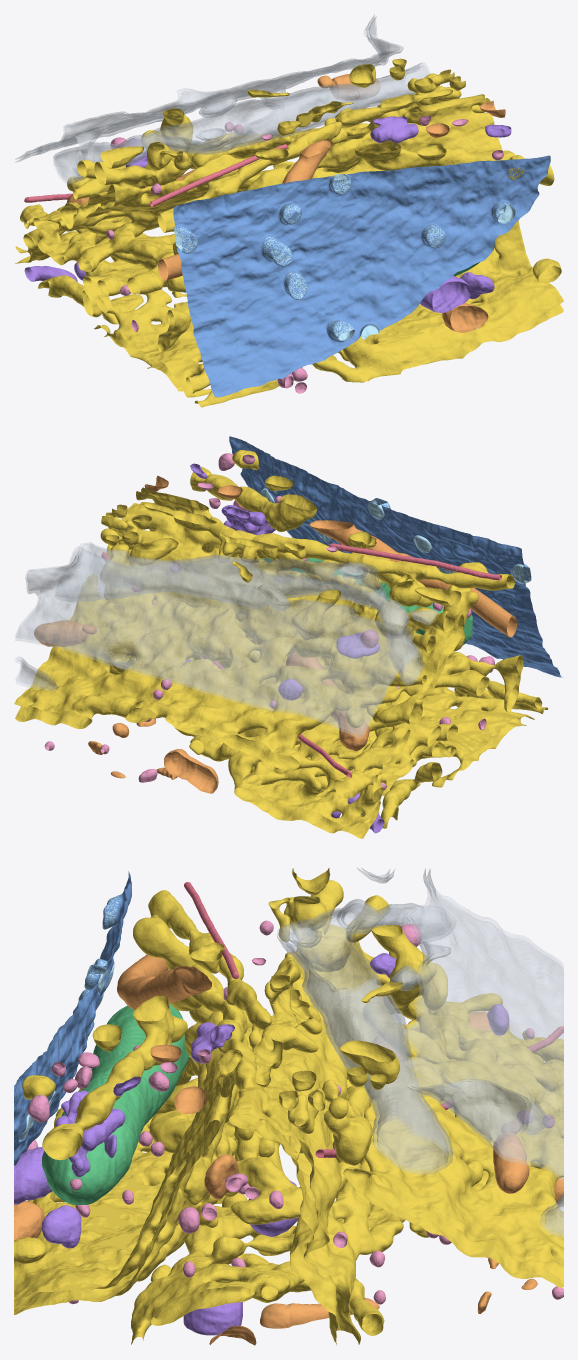
The model's file is macrophage_organelles.glb.
The picture shows the model from 3 angles, top to bottom: view 1: azimuth 30°, elevation 25°; view 2: azimuth 150°, elevation 25°; view 3: azimuth 270°, elevation 25°; orthographic projection. The views are drawn at different scales.
Visible parts, largest first — view 1: er, nucleus, plasma_membrane, lysosome, endosome, nuclear_pore, vesicle, microtubule; view 2: er, plasma_membrane, nucleus, lysosome, endosome, vesicle, microtubule, nuclear_pore, mitochondria; view 3: er, plasma_membrane, lysosome, endosome, mitochondria, vesicle, nucleus, microtubule, nuclear_pore.
Boxes of the visible parts, left/top/right/bottom form: er: left=15, top=58, right=563, bottom=407; nucleus: left=173, top=155, right=550, bottom=397; plasma_membrane: left=15, top=14, right=430, bottom=184; lysosome: left=67, top=74, right=505, bottom=332; endosome: left=24, top=116, right=511, bottom=312; nuclear_pore: left=174, top=174, right=515, bottom=340; vesicle: left=106, top=115, right=503, bottom=393; microtubule: left=24, top=144, right=287, bottom=206; er: left=14, top=450, right=548, bottom=838; plasma_membrane: left=15, top=542, right=437, bottom=737; nucleus: left=229, top=436, right=562, bottom=677; lysosome: left=34, top=475, right=517, bottom=793; endosome: left=186, top=463, right=384, bottom=833; vesicle: left=44, top=453, right=494, bottom=790; microtubule: left=102, top=543, right=501, bottom=777; nuclear_pore: left=260, top=488, right=531, bottom=583; mitochondria: left=263, top=558, right=472, bottom=644; er: left=14, top=868, right=563, bottom=1345; plasma_membrane: left=277, top=868, right=563, bottom=1237; lysosome: left=14, top=954, right=563, bottom=1345; endosome: left=14, top=953, right=508, bottom=1335; mitochondria: left=42, top=1003, right=189, bottom=1204; vesicle: left=27, top=920, right=563, bottom=1304; nucleus: left=14, top=871, right=131, bottom=1165; microtubule: left=184, top=882, right=563, bottom=1157; nuclear_pore: left=19, top=896, right=120, bottom=1139.
Bounding box in the file's own units: 2000 × 996 × 2004.
